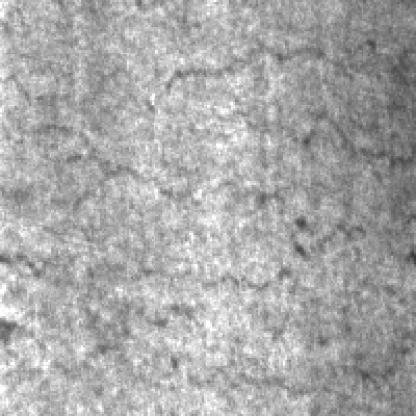crazing: (64, 31, 416, 223), (69, 247, 416, 391)
